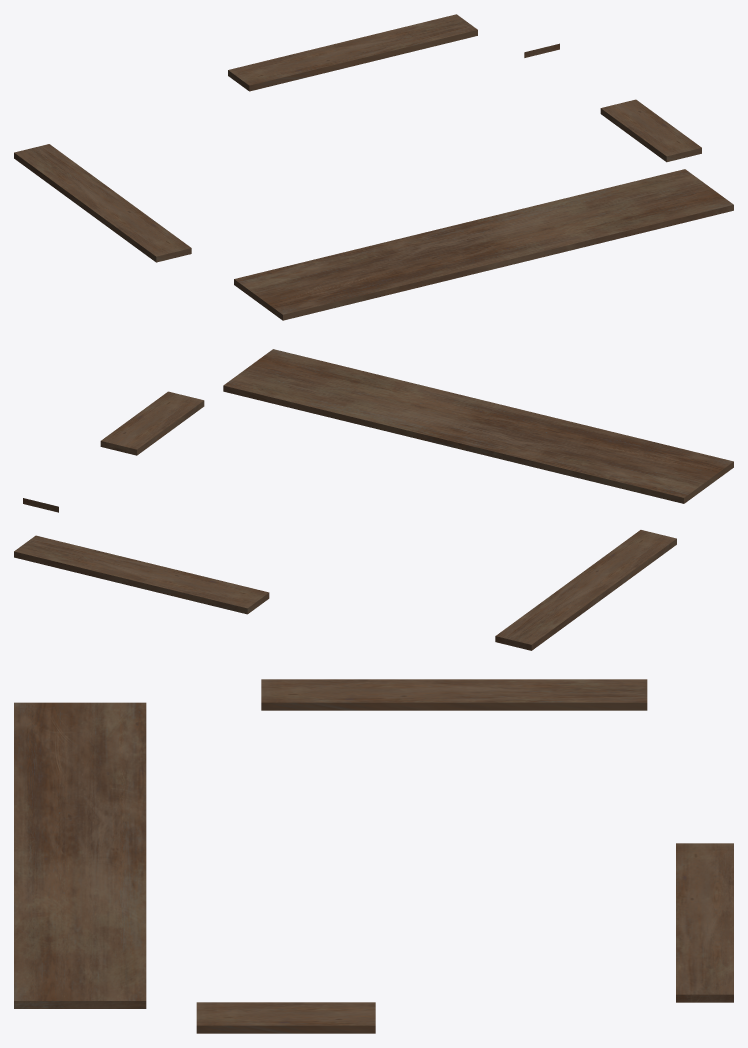
Rendered from floorWood.gltf.
3 renders of one model, top to bottom at view 1: azimuth 30°, elevation 25°; view 2: azimuth 150°, elevation 25°; view 3: azimuth 270°, elevation 25°, orthographic. The views are drawn at different scales.
Visible parts, largest first — view 1: floorWood; view 2: floorWood; view 3: floorWood.
Part boxes in pixels (left/top/right/bottom): floorWood: left=14, top=14, right=733, bottom=320; floorWood: left=14, top=349, right=733, bottom=650; floorWood: left=14, top=679, right=733, bottom=1033.
Size of the model in its own units: 3.7 by 0.0463 by 3.26.
1 material, 1 textured.
